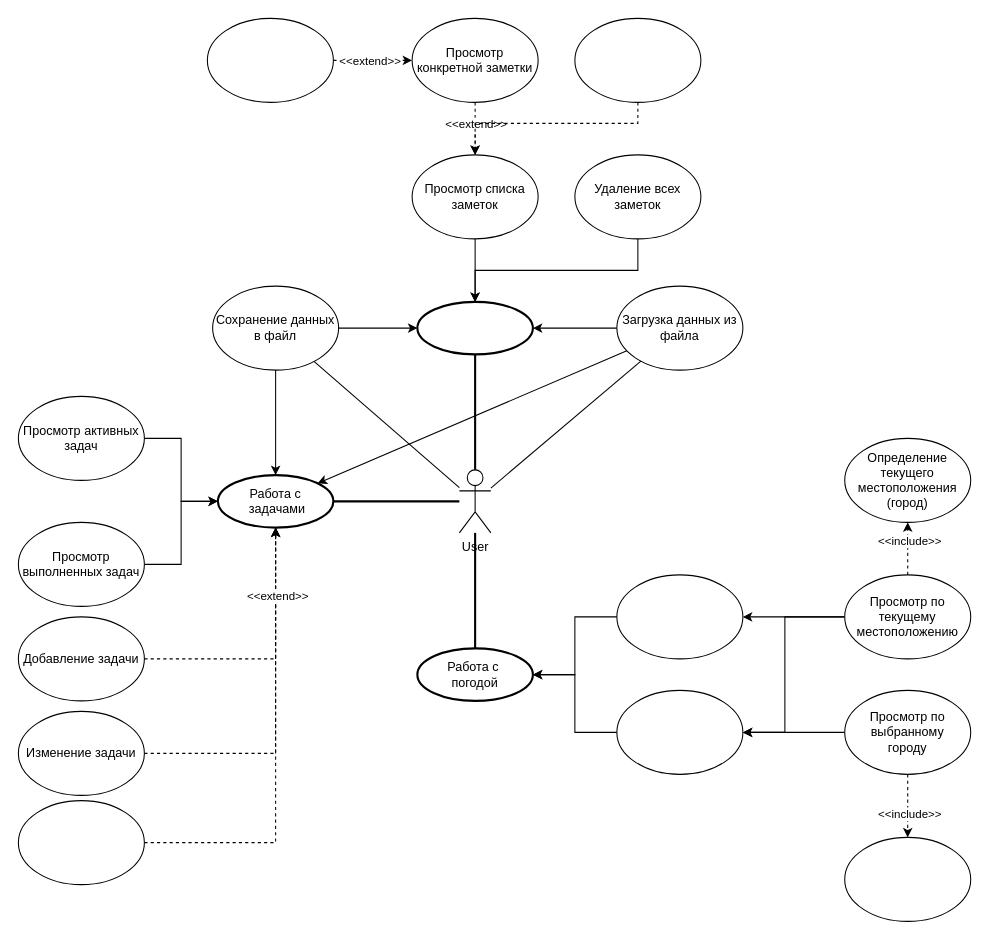
The diagram is 989 pixels wide and 940 high, and some of its shapes have lost their labels. Here are the shapes that lost their labels. From the top down, the centre of each, then its label:
At (269,59): "Редактирование заметки".
At (637,59): "Удаление конкретной заметки".
At (474,327): "Работа с заметками".
At (679,616): "Просмотр актуальной погоды".
At (679,731): "Просмотр прогноза на 7 дней".
At (80,842): "Изменение состояния задачи".
At (907,878): "Поиск прогноза погоды в выбранном городе".
